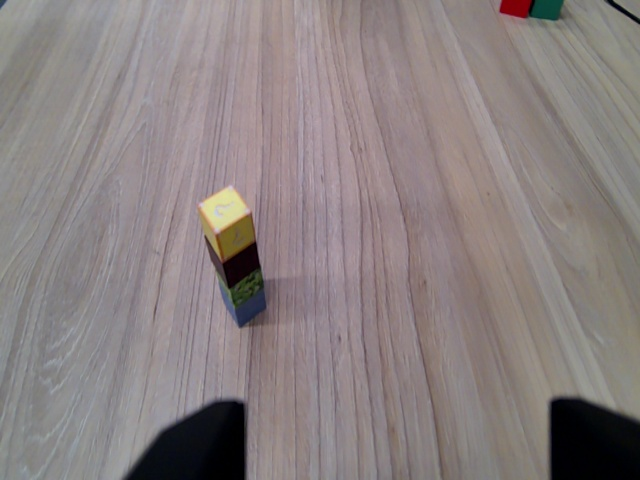brick: (203, 249, 262, 279)
grass: (214, 278, 262, 299)
lucky: (197, 187, 256, 248)
stone: (216, 295, 265, 324)
